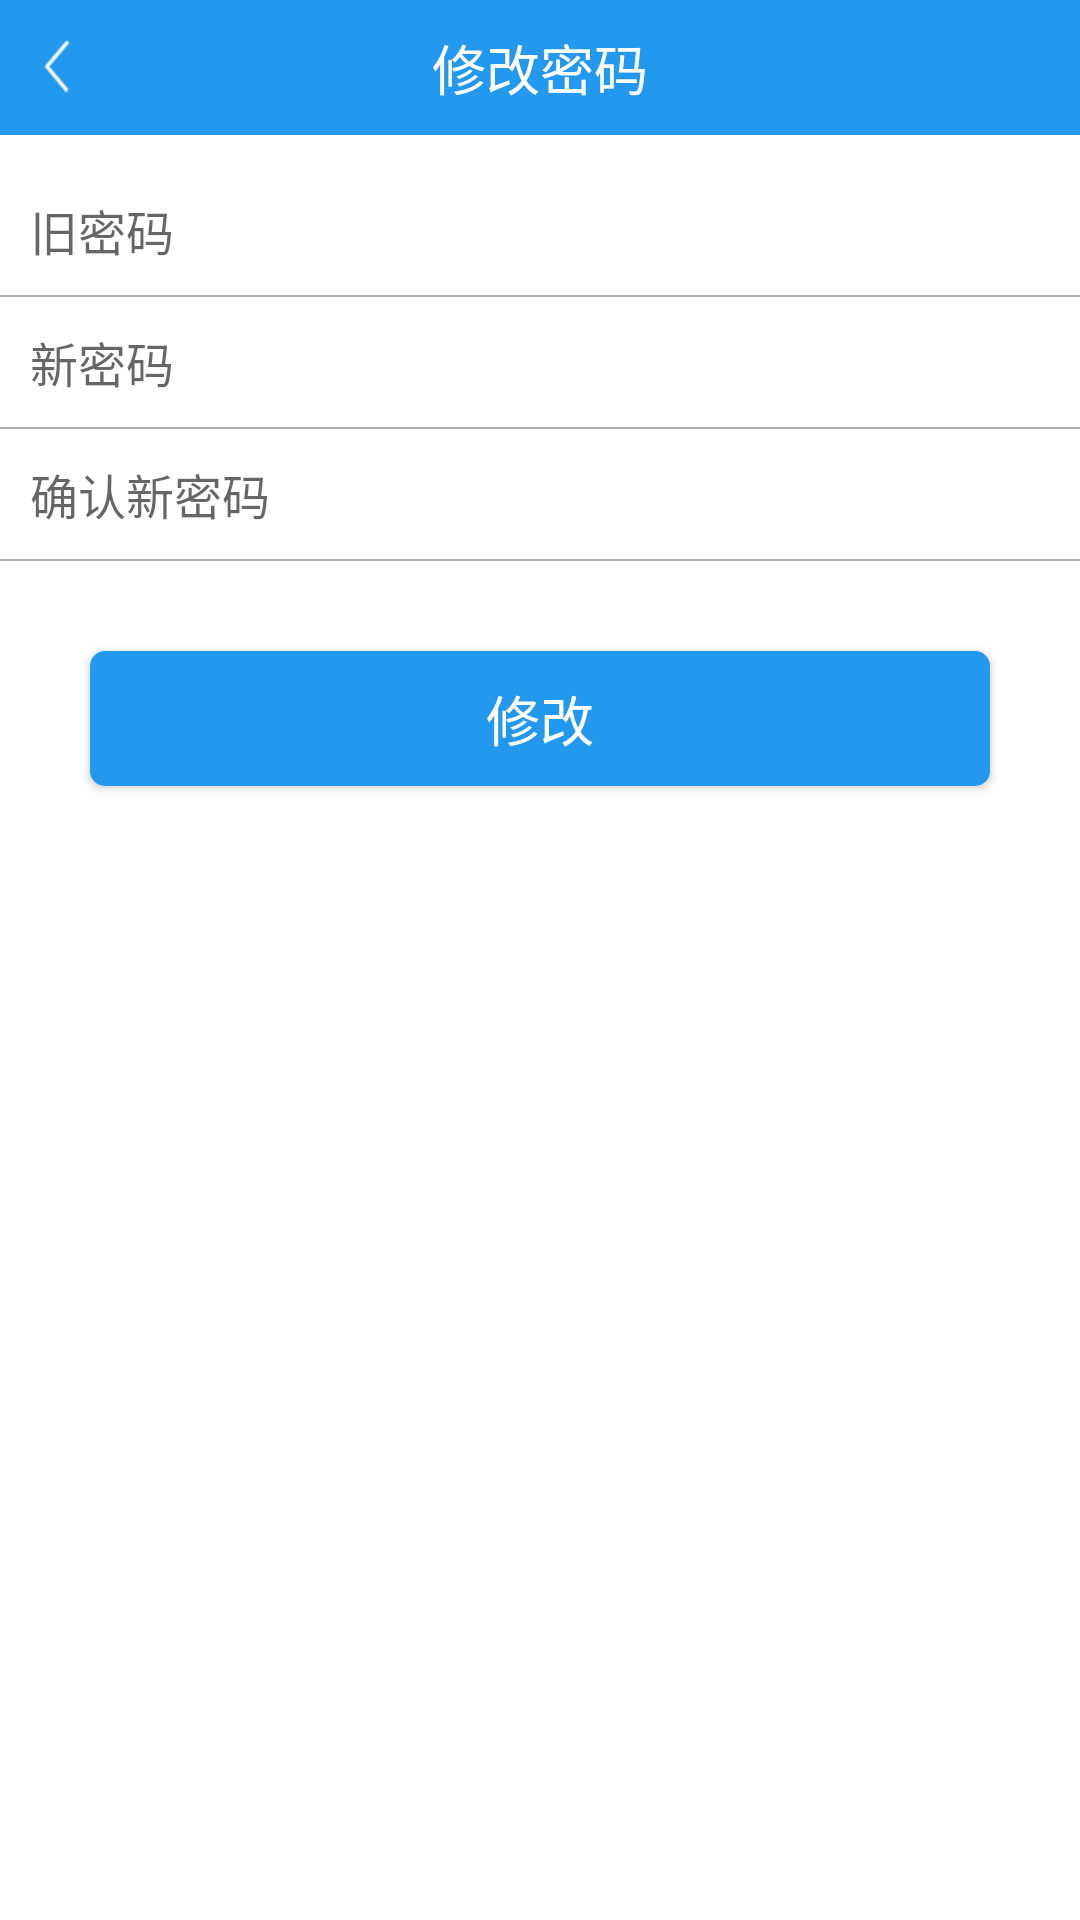

Screen size 1080w x 1920h. Icon name, then its center in pixels as [x,y]:
im back: [57,66]
